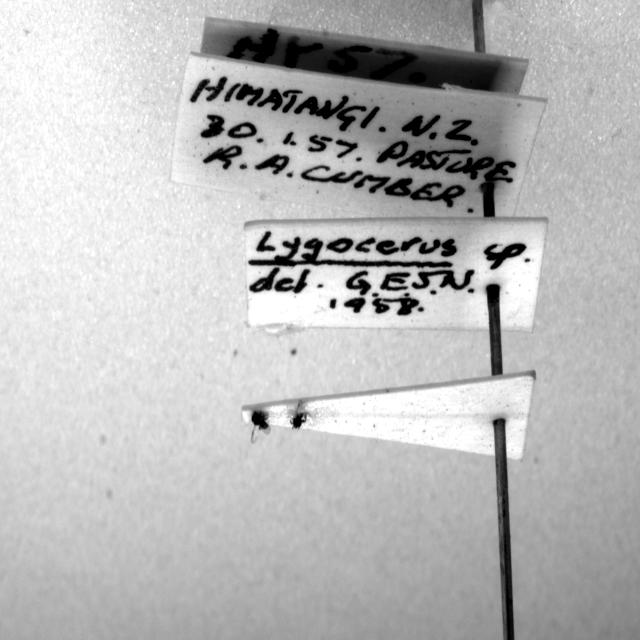hand_label: (170, 52, 546, 218), (245, 218, 548, 330)
